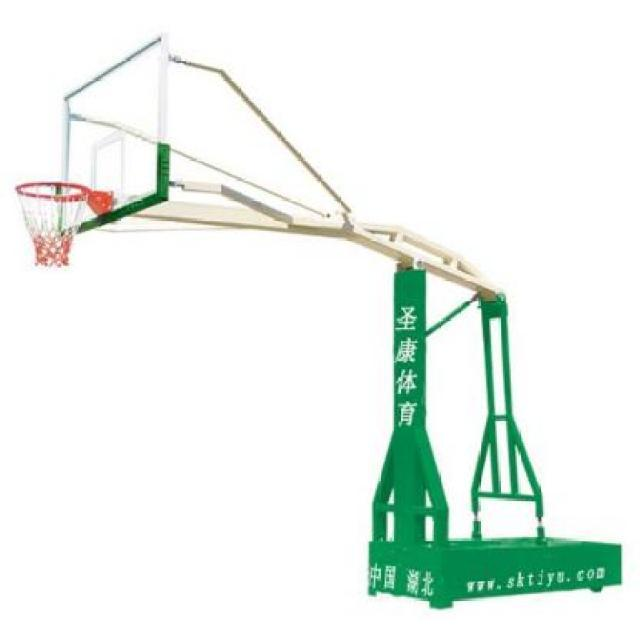rim: (14, 180, 88, 268)
